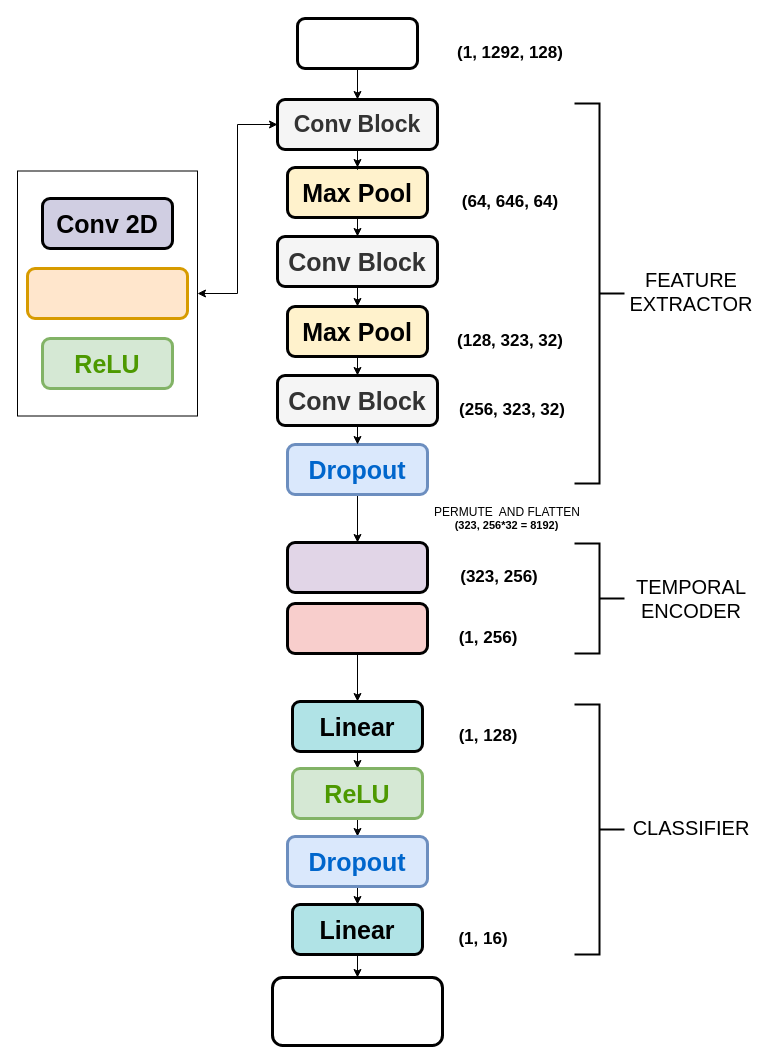
Some shapes in this 779 by 1064 pixel diagram are drawn without their labels. Each missing label, with the box of its shape:
Batch Norm: (26, 266, 188, 320)
GRU: (286, 540, 428, 594)
Input: (296, 16, 418, 70)
Output (predictions): (270, 976, 444, 1046)
Pooling: (286, 602, 428, 654)
